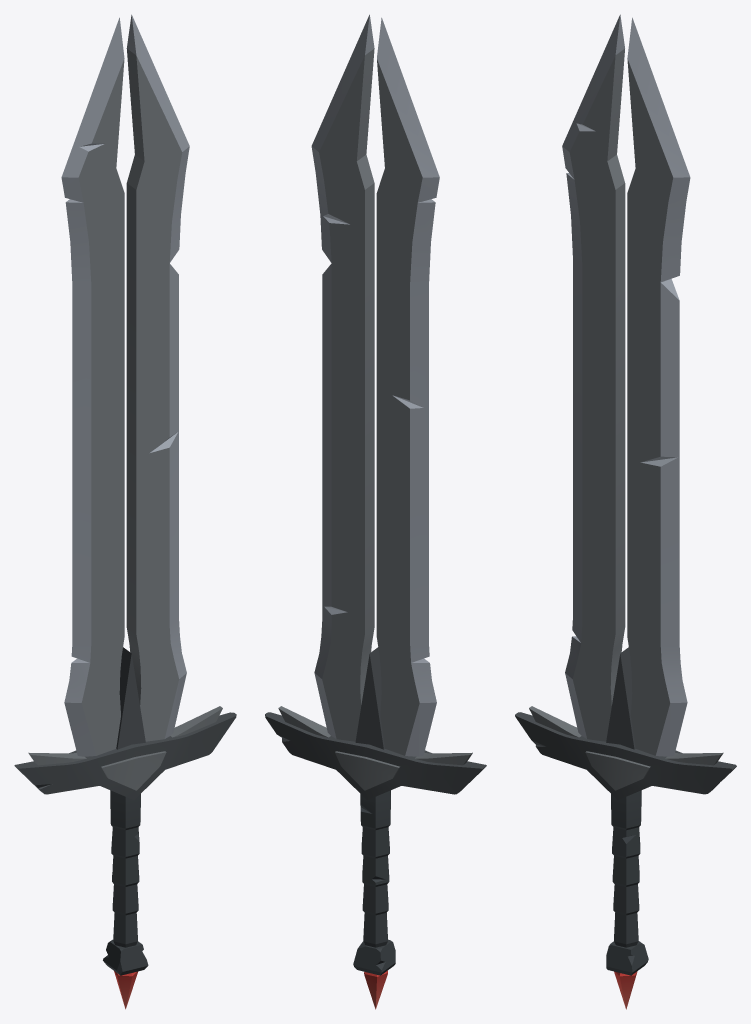
File: Sword_02.fbx
3 renders of one model, left to right at view 1: azimuth 30°, elevation 25°; view 2: azimuth 150°, elevation 25°; view 3: azimuth 330°, elevation 25°, orthographic.
Visible parts, largest first — view 1: Sword_02; view 2: Sword_02; view 3: Sword_02.
Boxes of the visible parts, x1,y1,x2,y2 form: Sword_02: (14, 14, 236, 1009); Sword_02: (265, 14, 486, 1009); Sword_02: (515, 14, 736, 1009).
Bounding box in the file's own units: 26.06 × 113 × 4.72.
